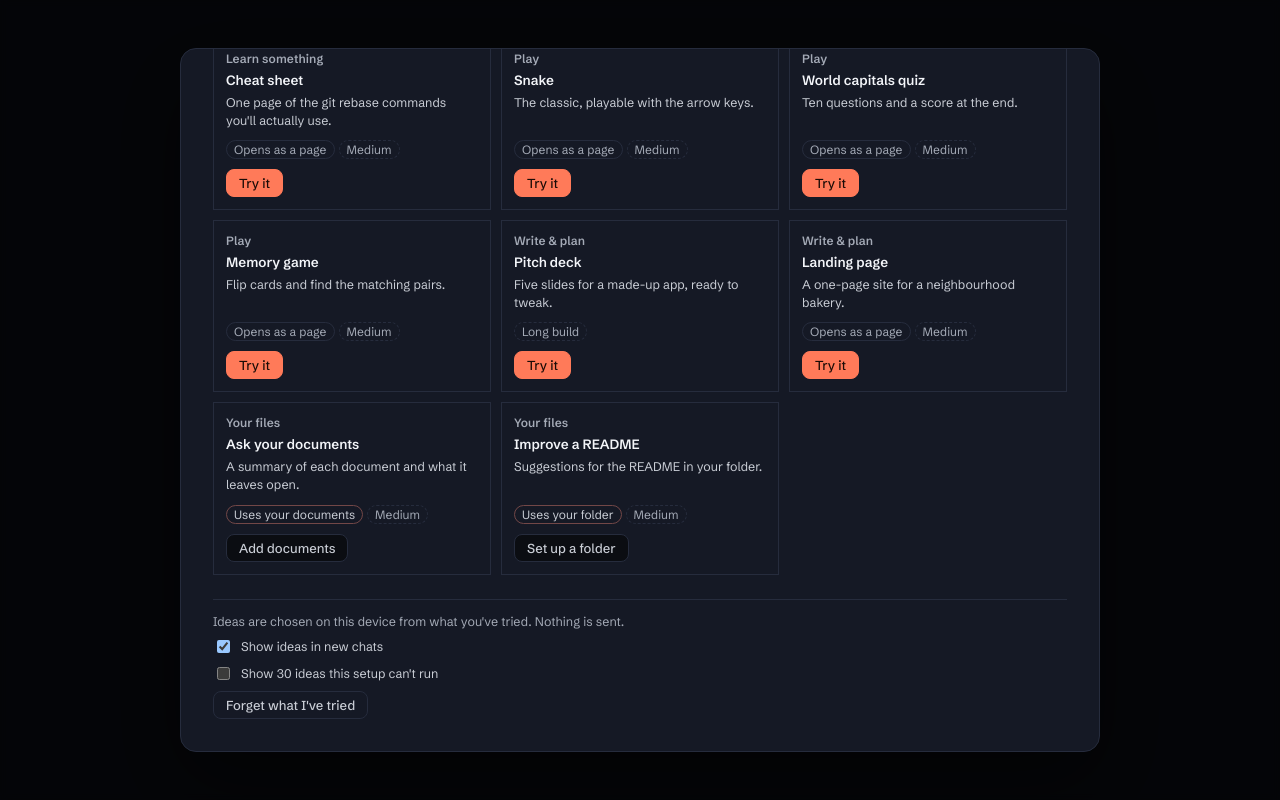
it: IdeasSheet › hides what this setup cannot run until asked
(page scrolled)
Click the checkbox labelled "Show 30 ideas this setup can't run". click: (224, 673)
box: [217,666,230,680]
(page scrolled)
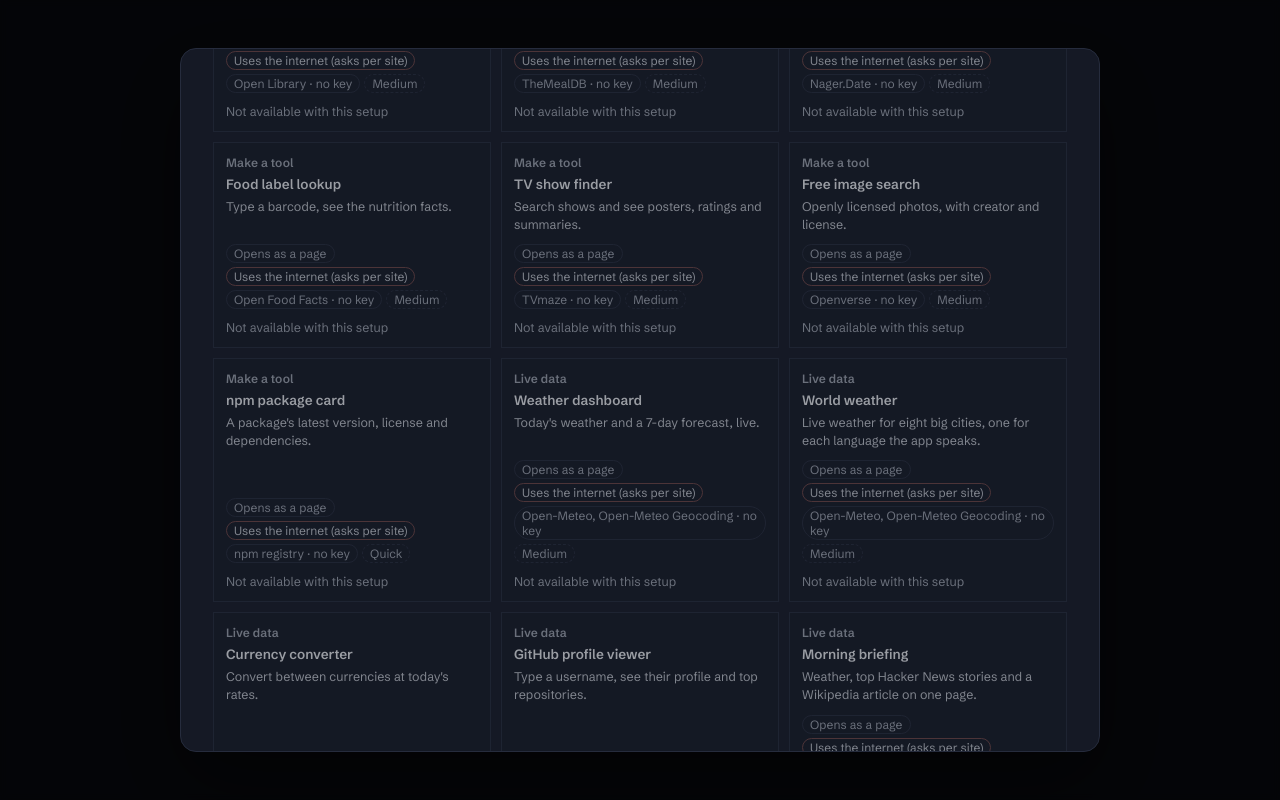
expect the heading "Weather dashboard" is shown: met, box [514,392,642,408]
expect the text "Not available with this setup" is shown 30 times: met
